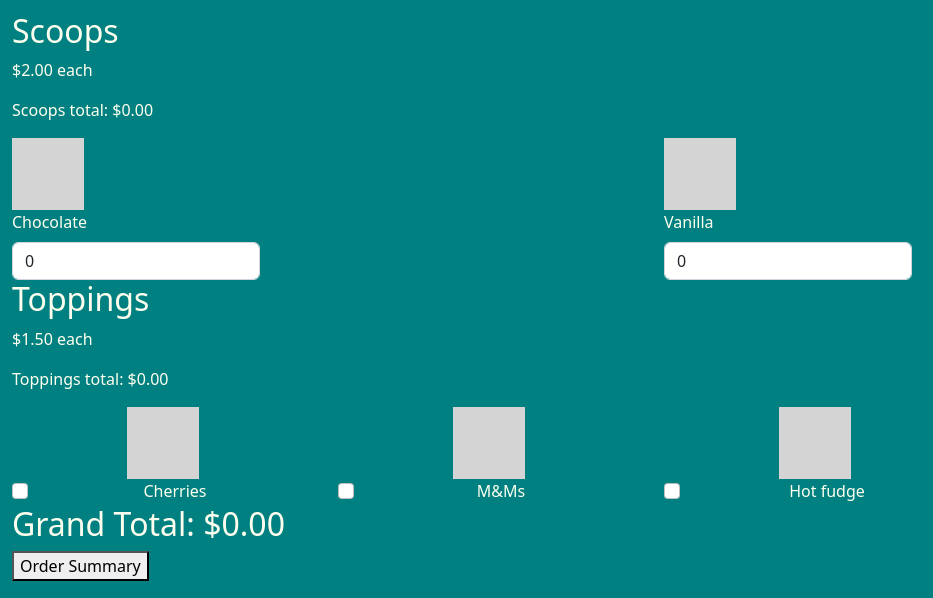
Test: grand total › grand total updates properly if scoop is added first
Check: the heading "Grand Total: $0.00" is shown, box [12,502,285,545]
In the number field labelled "Vanilla": (788, 261) [664,242,912,280], type "2"
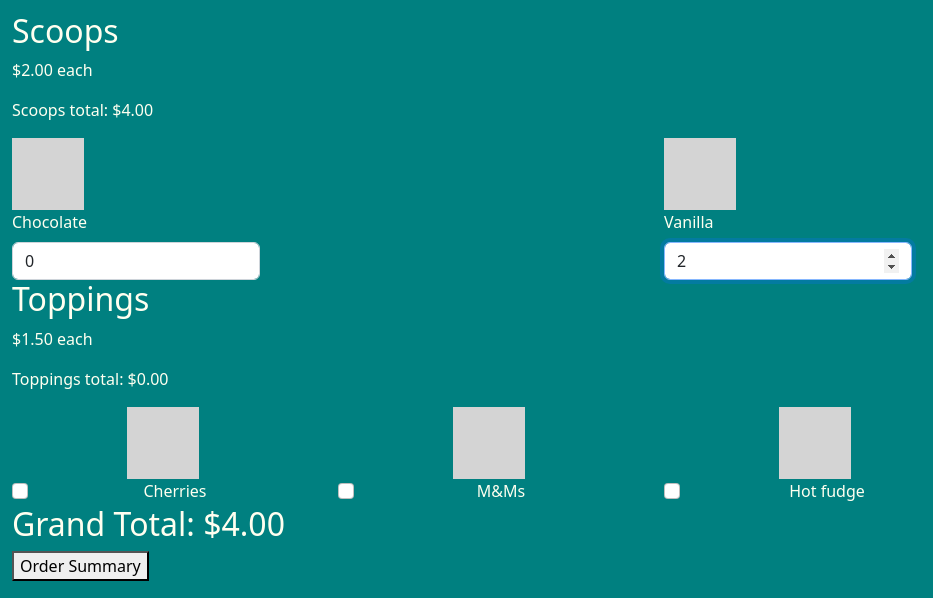
Check: the heading "Grand Total: $4.00" is shown, box [12,502,285,545]
Click the checkbox labelled "Cherries": (20, 491) [12,483,28,499]
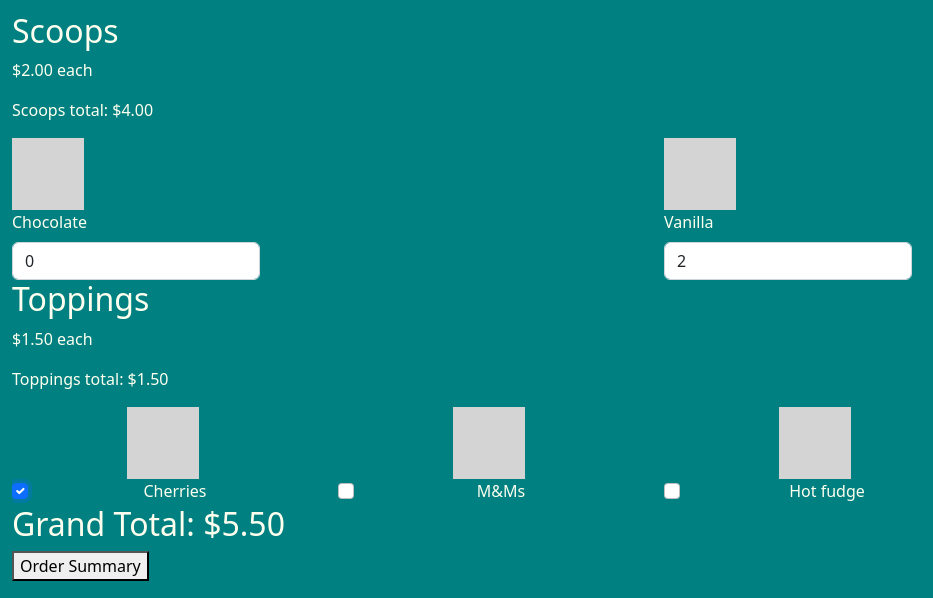
Check: the heading "Grand Total: $5.50" is shown, box [12,502,285,545]
